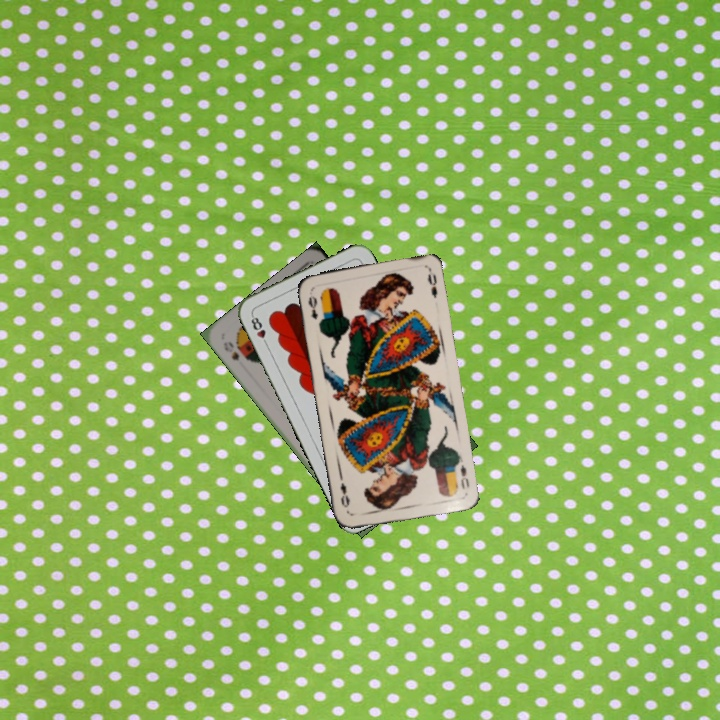EO: (450, 454, 472, 492), (304, 287, 320, 322)
H8: (247, 311, 271, 349)
SO: (219, 338, 242, 363)
